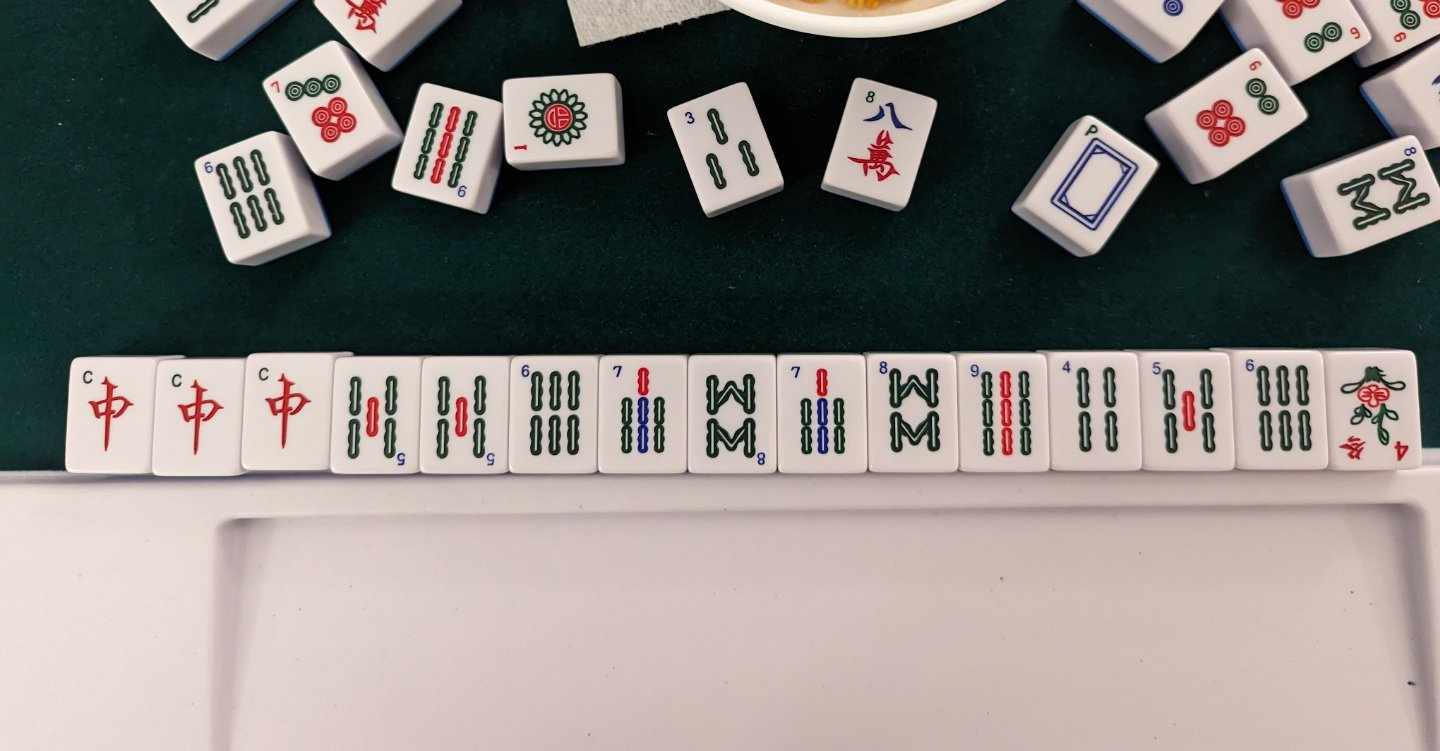bamboo-eight: (871, 355, 955, 471), (690, 358, 776, 471)
bamboo-five: (1145, 356, 1228, 468), (426, 360, 503, 469), (337, 360, 411, 471)
bamboo-four: (1055, 355, 1136, 465)
bamboo-nine: (962, 356, 1046, 469)
bamboo-seven: (781, 358, 864, 472), (602, 360, 680, 470)
bamboo-six: (513, 358, 595, 470), (1239, 354, 1317, 466)
flower-red_four: (1331, 355, 1413, 465)
honor-red_dragon: (72, 360, 144, 471), (162, 366, 234, 472), (252, 360, 321, 465)
